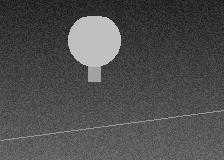no_helmet: (68, 12, 120, 71)
